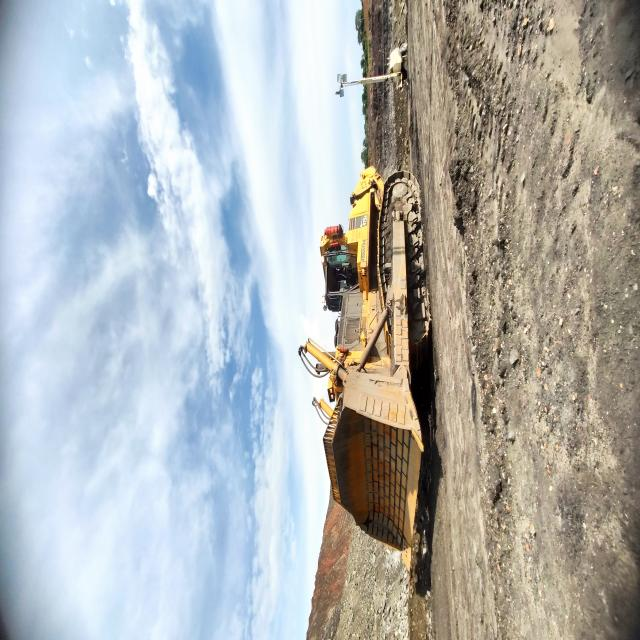buldozerpayloadergrader: (63, 531, 261, 640)
